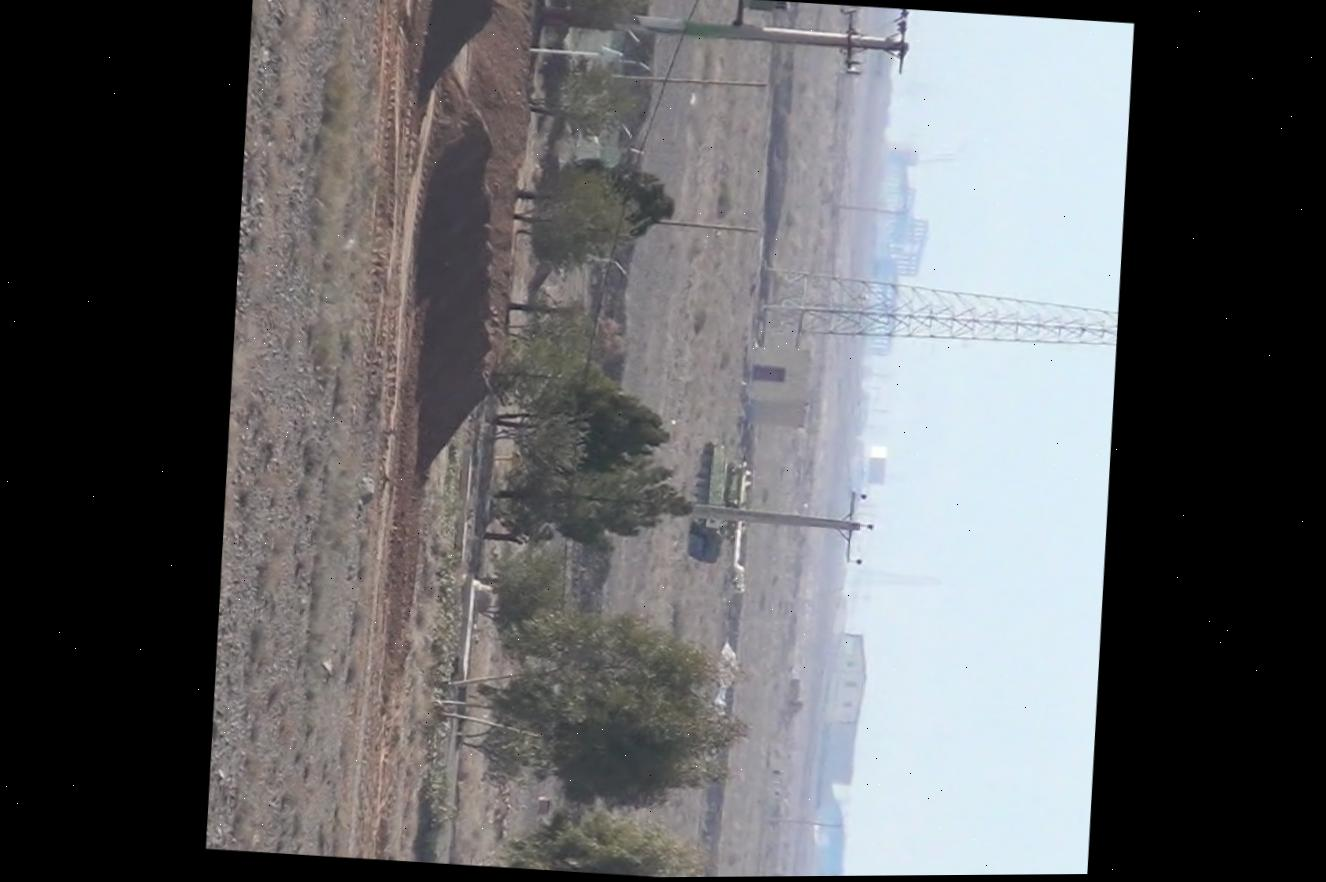armored_car: (680, 434, 759, 570)
